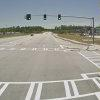Crosswalk: (1, 73, 100, 100)
